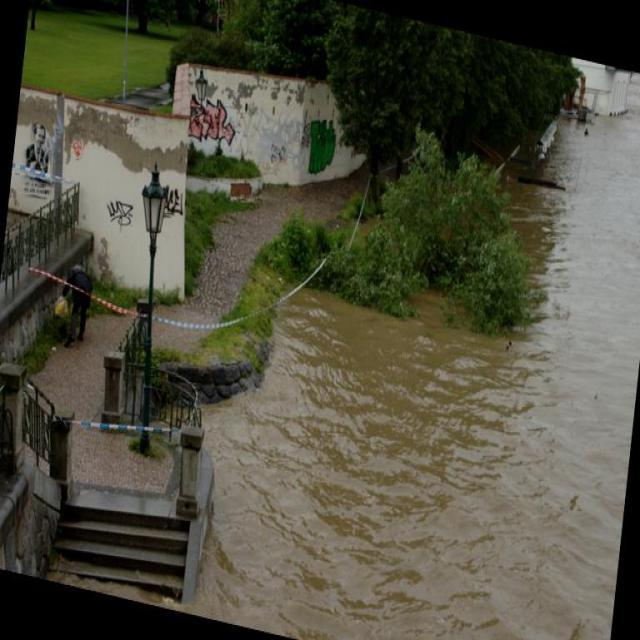flood: (186, 272, 639, 639)
